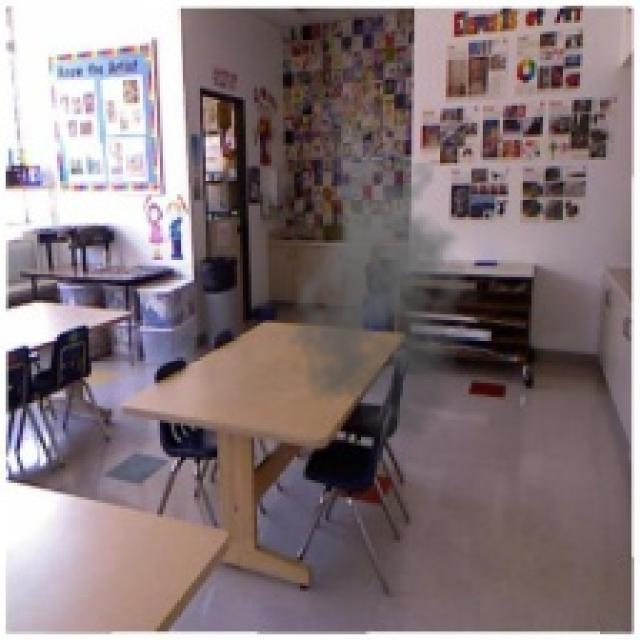Smoke: (286, 163, 492, 443)
